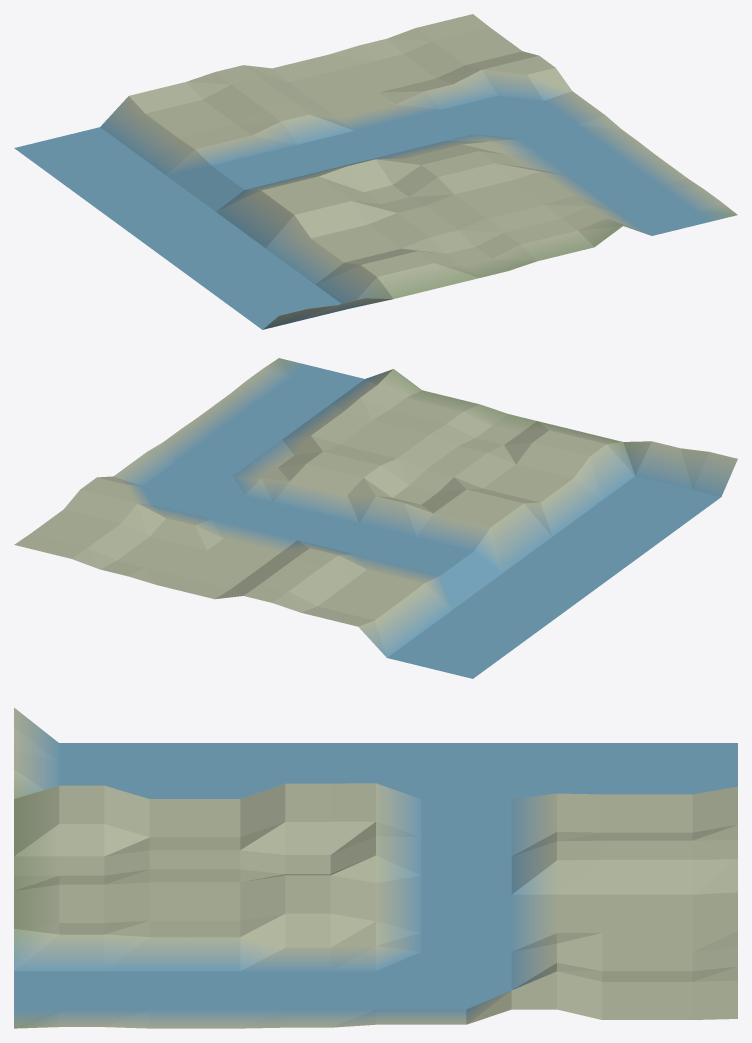
3 views of the same model, one above another, from view 1: azimuth 30°, elevation 25°; view 2: azimuth 150°, elevation 25°; view 3: azimuth 270°, elevation 25° (orthographic). The views are drawn at different scales.
Size of the model in its own units: 32 by 2.14 by 32.
